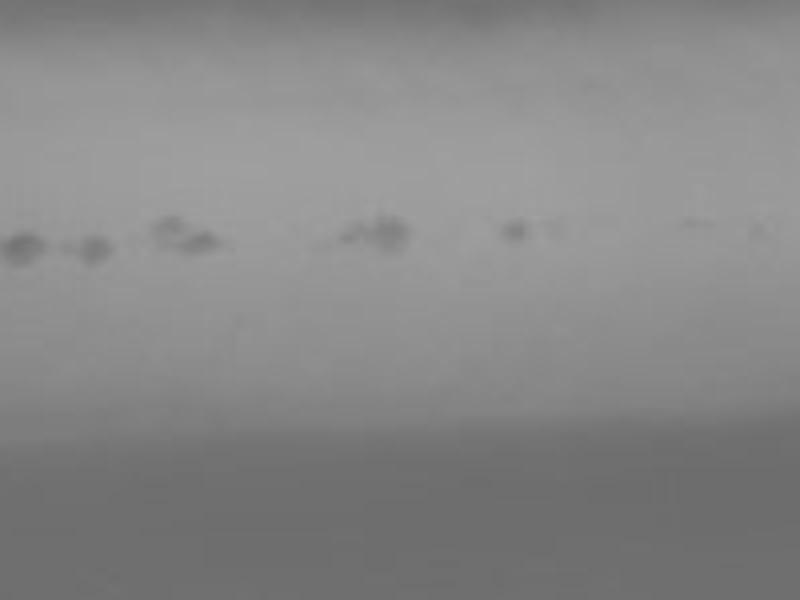defect: (4, 232, 43, 274), (371, 211, 408, 252), (78, 230, 111, 266), (176, 230, 219, 254), (152, 213, 180, 237), (501, 218, 524, 244), (676, 213, 709, 230), (54, 235, 75, 257), (336, 227, 360, 246)
